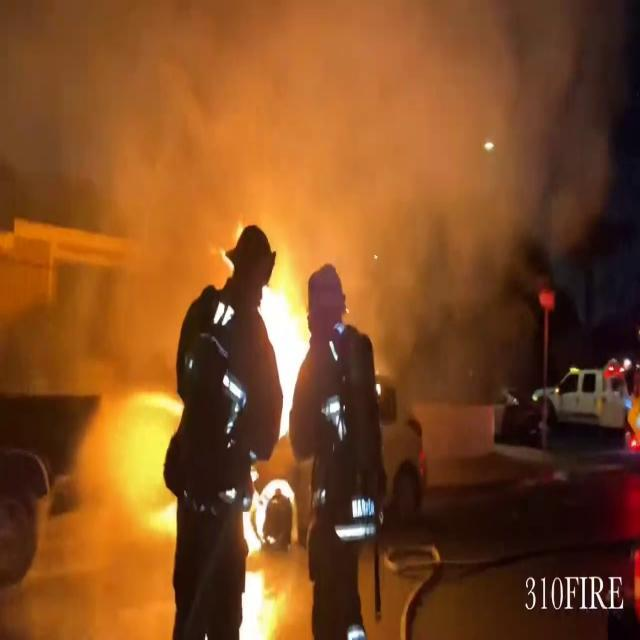Fire: (255, 250, 315, 433), (234, 461, 286, 638)
Smoke: (4, 0, 636, 331)
